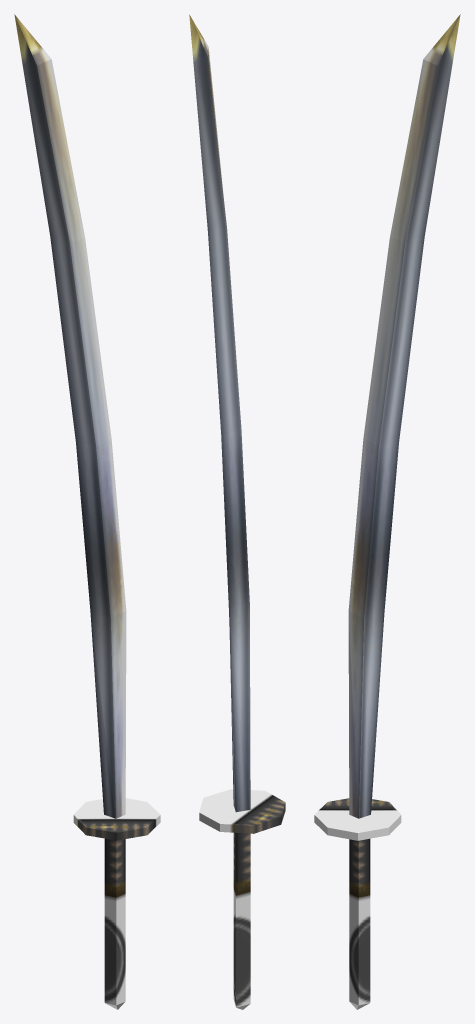
Rendered from heavybladev00.obj.
3 renders of one model, left to right at view 1: azimuth 90°, elevation 25°; view 2: azimuth 150°, elevation 25°; view 3: azimuth 270°, elevation 25°, orthographic. The views are drawn at different scales.
Visible parts, largest first — view 1: MDL_cw2hkt00; view 2: MDL_cw2hkt00; view 3: MDL_cw2hkt00.
Boxes of the visible parts, box(x1,y1,x2,y2) form: MDL_cw2hkt00: box(14, 14, 160, 1009); MDL_cw2hkt00: box(189, 14, 285, 1009); MDL_cw2hkt00: box(314, 14, 460, 1009).
Size of the model in its own units: 0.1388 by 1.77 by 0.235.
